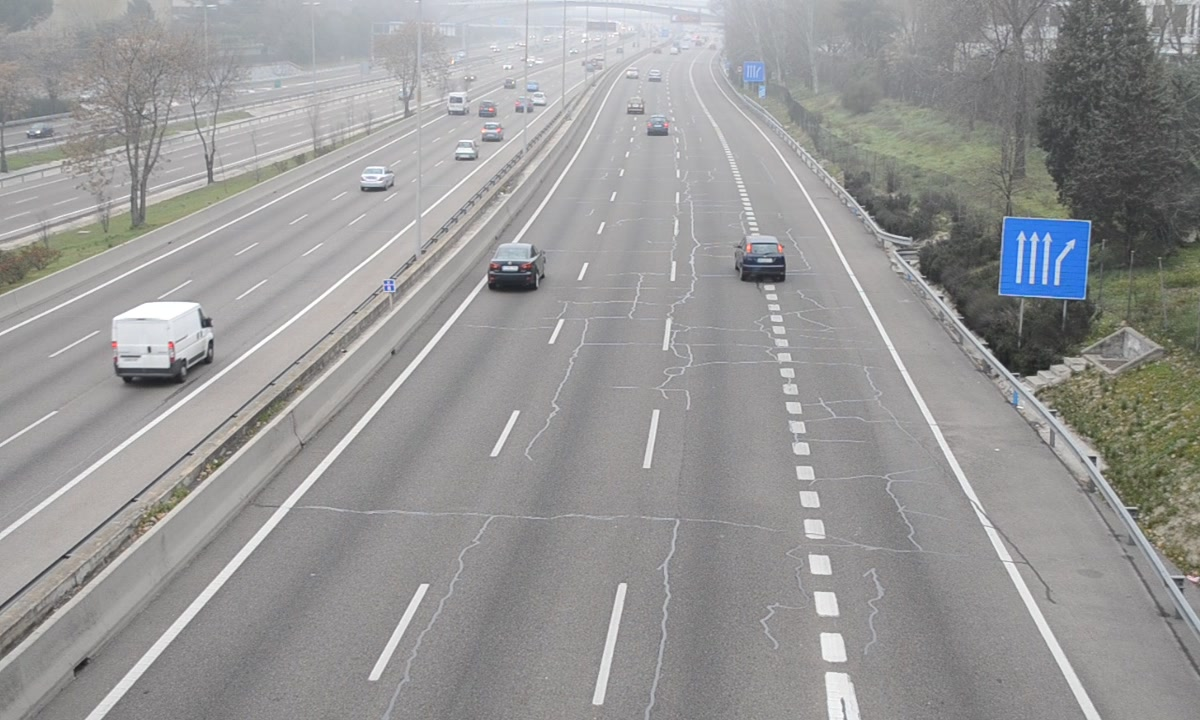car: (489, 244, 543, 287), (736, 237, 786, 281), (646, 114, 670, 138)
